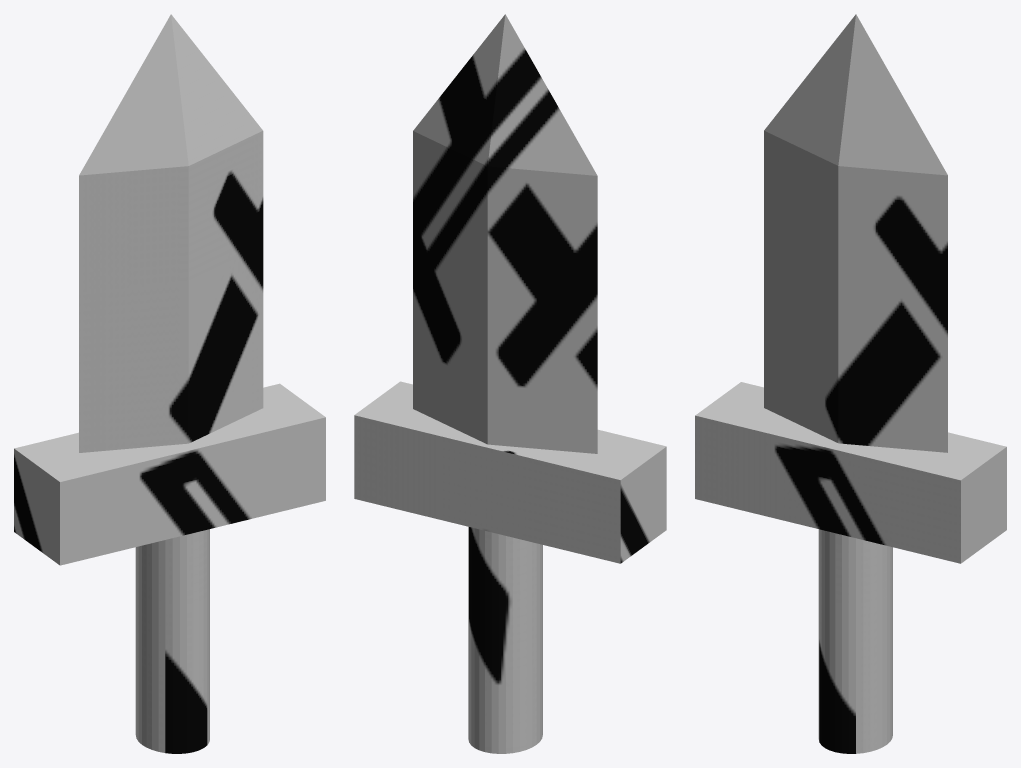
File: Attack.gltf
3 views of the same model, side by side, from view 1: azimuth 30°, elevation 25°; view 2: azimuth 150°, elevation 25°; view 3: azimuth 330°, elevation 25° (orthographic).
Visible parts, largest first — view 1: Sphere; view 2: Sphere; view 3: Sphere.
Boxes of the visible parts, x1,y1,x2,y2 form: Sphere: [14, 14, 325, 753]; Sphere: [354, 14, 666, 753]; Sphere: [695, 14, 1006, 753].
Size of the model in its own units: 0.48 by 1.25 by 0.144.
